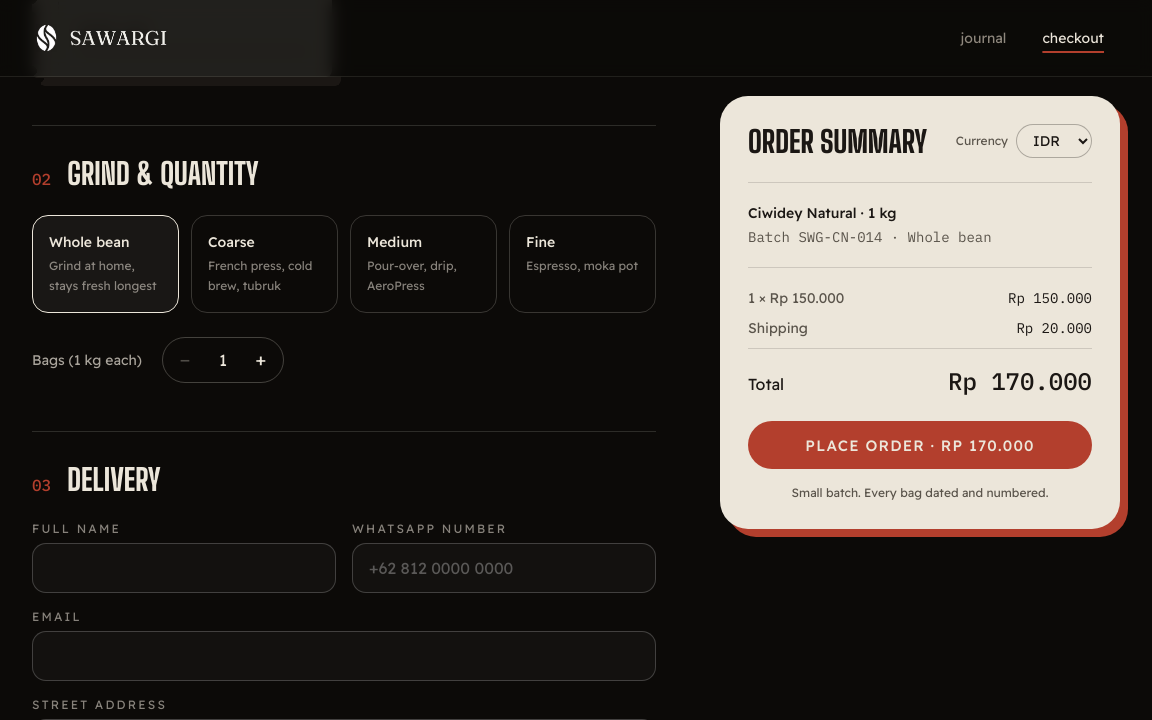
Test: checkout › updates the total with quantity and currency
(page scrolled)
Expected: the text with test id "order-total" reads "Rp 170.000", top-left (948, 365), bottom-right (1092, 397)
Click the button named "increase quantity" at {"x": 261, "y": 360}, box top-left (239, 338), bottom-right (283, 382)
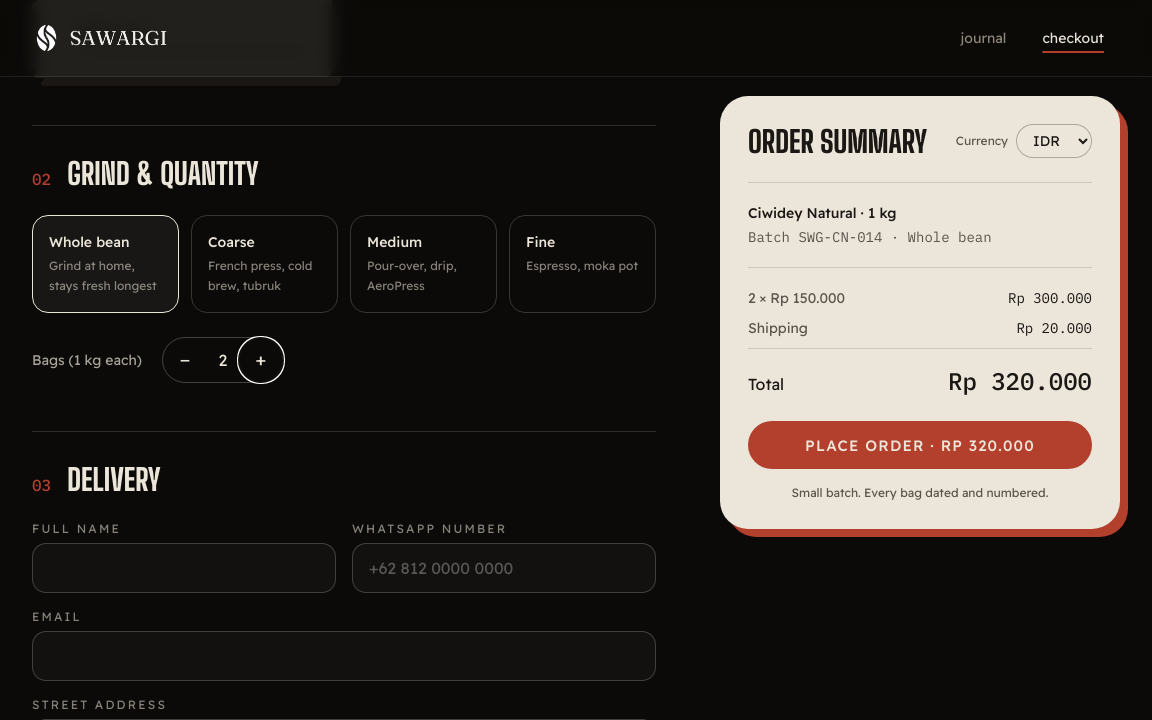
Click the button named "increase quantity" at {"x": 261, "y": 360}, box top-left (239, 338), bottom-right (283, 382)
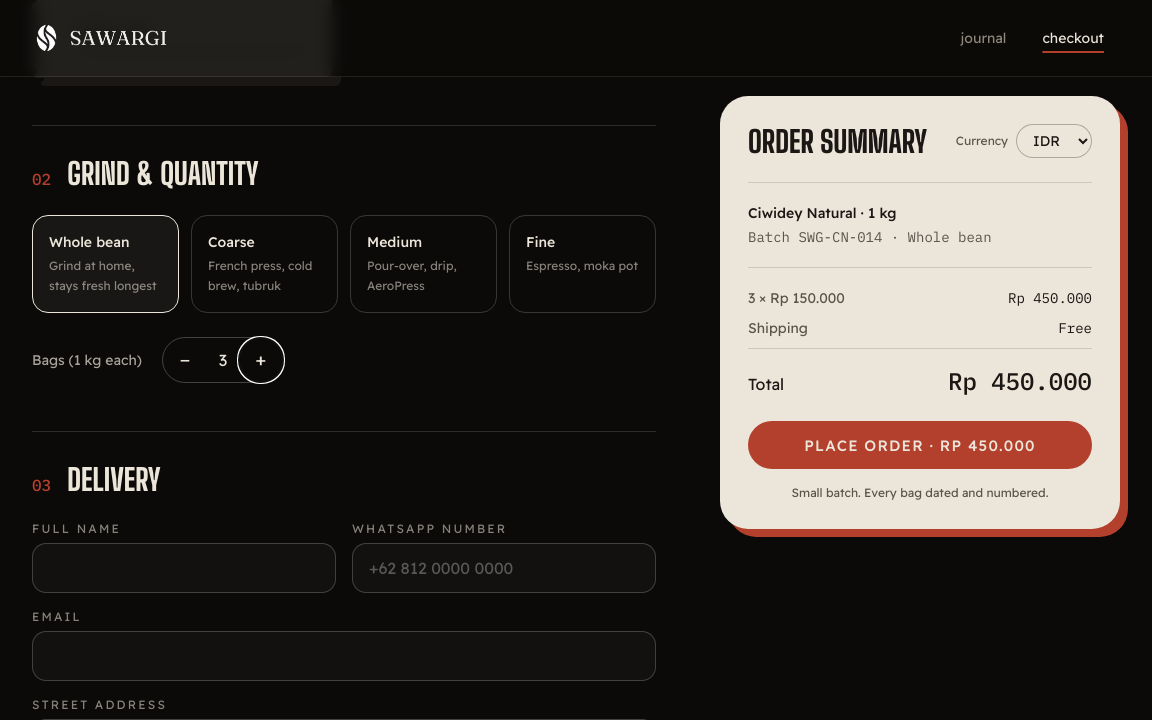
Expected: the text with test id "quantity" reads "3", top-left (219, 350), bottom-right (227, 370)
Expected: the text with test id "order-total" reads "Rp 450.000", top-left (948, 365), bottom-right (1092, 397)
Select "USD" in the dropdown labelled "Currency" at {"x": 1054, "y": 141}, box top-left (1016, 124), bottom-right (1092, 158)
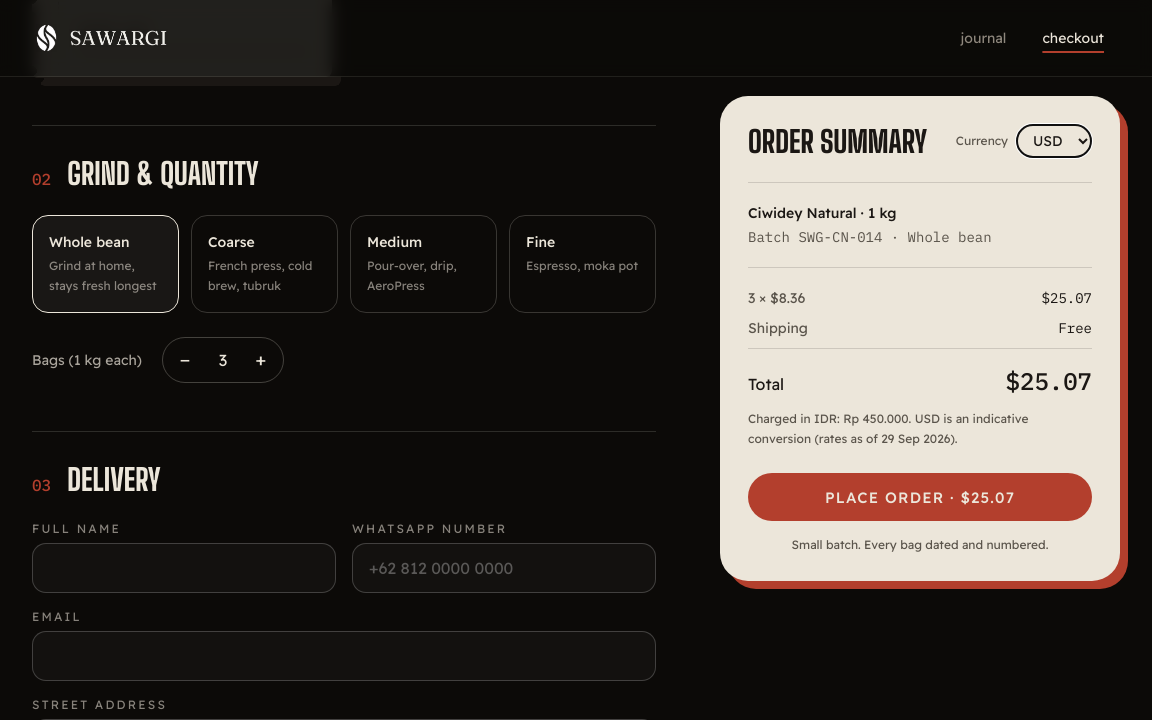
Expected: the text with test id "order-total" reads "$25.07", top-left (1006, 365), bottom-right (1092, 397)
Expected: the text "Charged in IDR" is shown, top-left (748, 411), bottom-right (843, 426)
